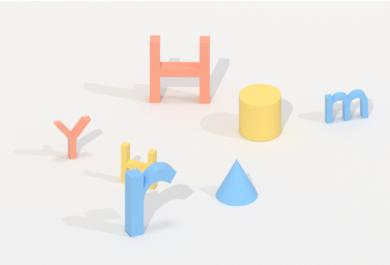0-KhoiTru: (235, 80, 286, 146)
0-TamGiac: (213, 157, 261, 209)
H: (145, 30, 214, 109), (116, 137, 160, 192)
Y: (50, 112, 95, 164)
m: (321, 86, 371, 126)
r: (121, 160, 179, 240)
